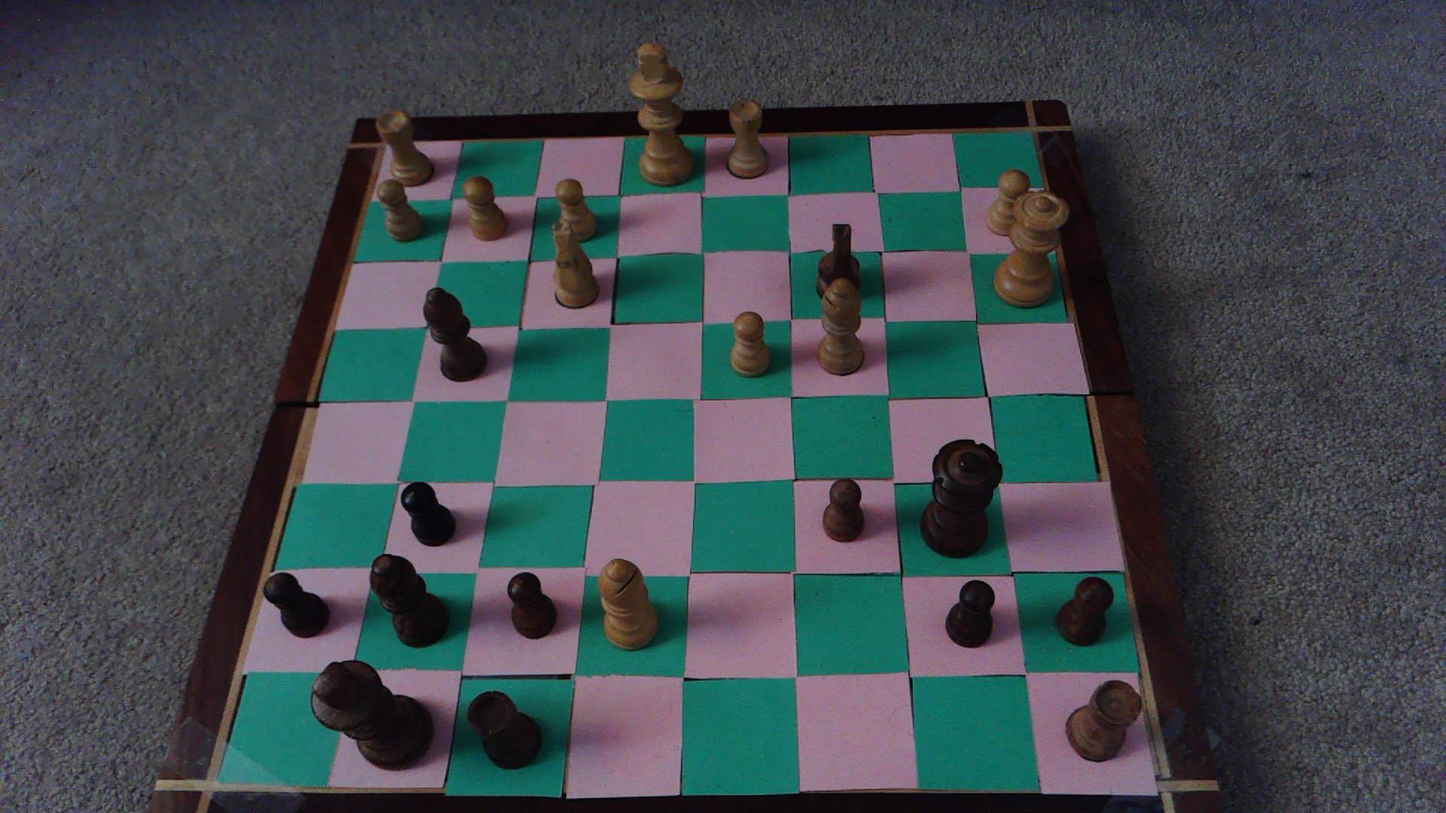dark_piece: (312, 660, 432, 769), (921, 440, 1001, 557), (371, 554, 447, 647), (1066, 680, 1141, 761), (424, 288, 485, 381), (467, 690, 540, 767), (264, 573, 328, 636), (816, 222, 864, 306), (1057, 578, 1113, 645), (401, 482, 454, 546), (946, 580, 994, 647), (508, 572, 556, 638), (823, 479, 863, 541)
white_piece: (629, 43, 695, 187), (994, 192, 1068, 306), (599, 559, 657, 647), (548, 221, 599, 308), (818, 278, 863, 373), (377, 110, 430, 185), (726, 100, 769, 179), (376, 178, 425, 242), (985, 170, 1031, 235), (462, 177, 507, 241), (554, 178, 598, 242), (731, 312, 769, 376)
